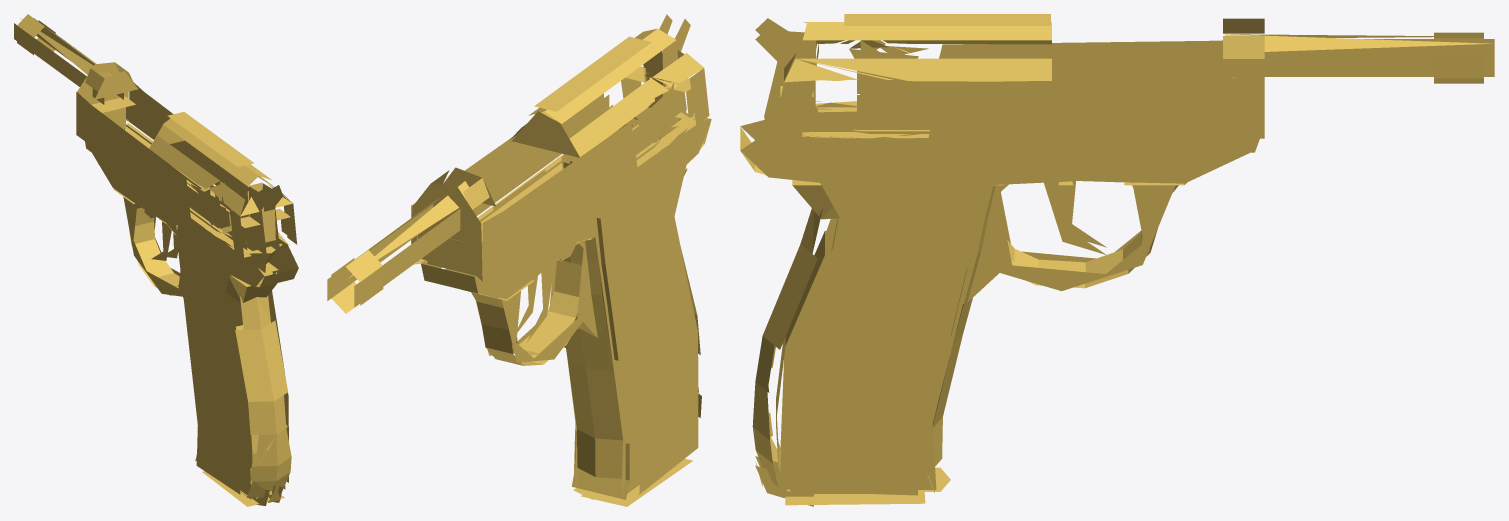
Rendered from charm_mst_pistol_9.glb.
3 renders of one model, left to right at view 1: azimuth 30°, elevation 25°; view 2: azimuth 150°, elevation 25°; view 3: azimuth 270°, elevation 25°, orthographic. The views are drawn at different scales.
Parts seen in each view (by area): view 1: p0_paint; view 2: p0_paint; view 3: p0_paint.
Part boxes in pixels (<box>): p0_paint: <box>14,14,298,506</box>; p0_paint: <box>327,14,711,506</box>; p0_paint: <box>740,14,1494,506</box>.
Size of the model in its own units: 0.0275 by 0.1523 by 0.216.
